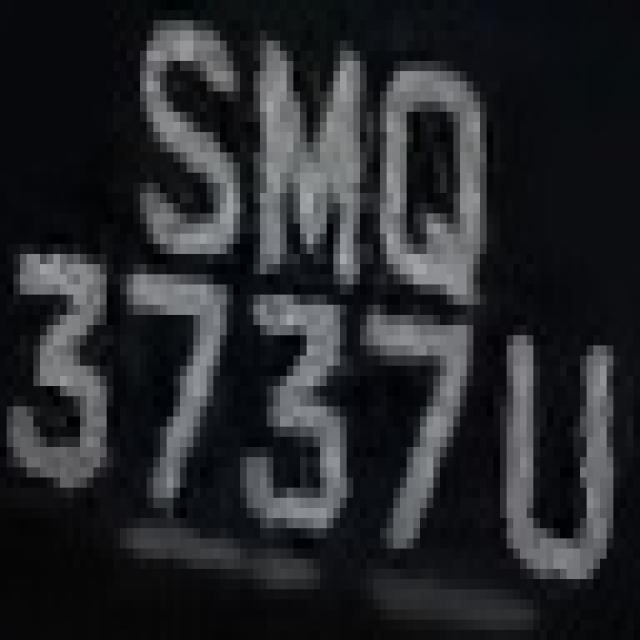3: (0, 233, 113, 558), (253, 254, 347, 559)
7: (107, 234, 220, 579), (360, 254, 467, 579)
M: (240, 30, 373, 305)
Q: (366, 20, 506, 305)
S: (113, 31, 240, 284)
U: (460, 345, 620, 620)
